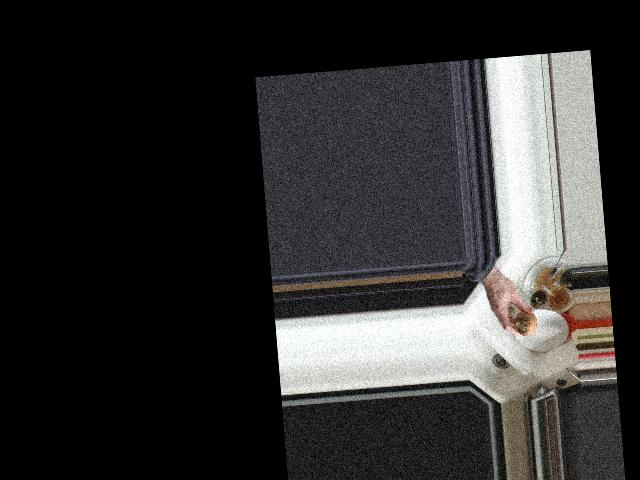sweet_potato: (511, 304, 539, 338)
